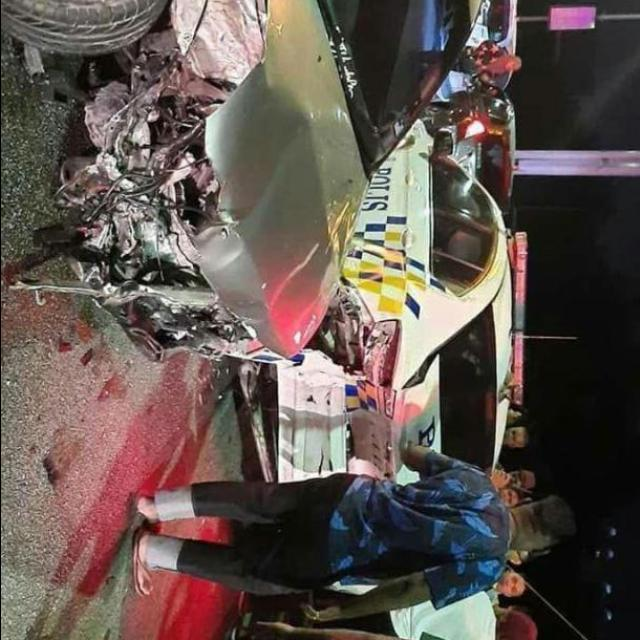accident: (0, 0, 339, 408), (245, 262, 423, 459)
